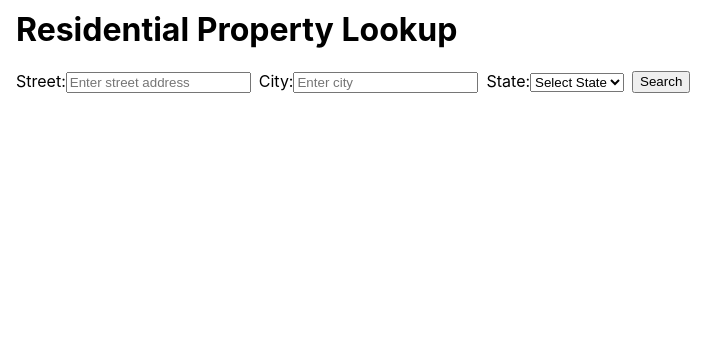
Test: App Component Tests › should display the summary after successful form submission
The image size is (707, 348).
Note: Fill out the form
Type "1252 Borregas Ave" into the field with placeholder "Enter street address" at (158, 82), box [66,72,251,93]
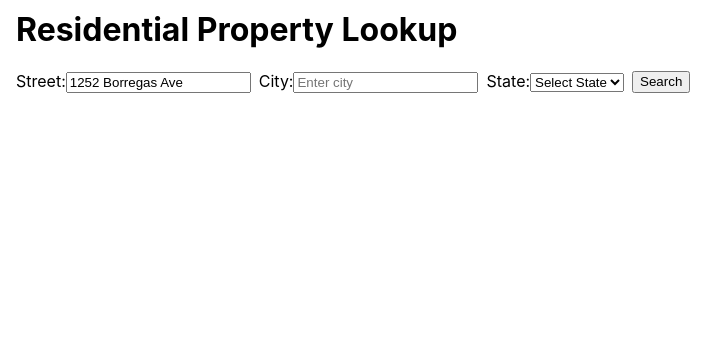
Type "Sunnyvale" into the field with placeholder "Enter city" at (386, 82), box [294,72,478,93]
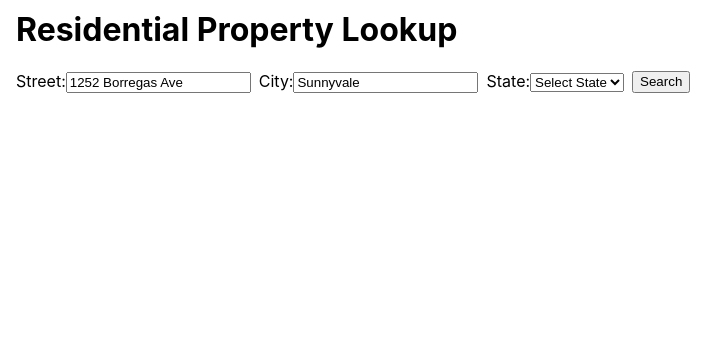
Select "CA" in the dropdown labelled "State:" at (577, 82), box [530,73,624,92]
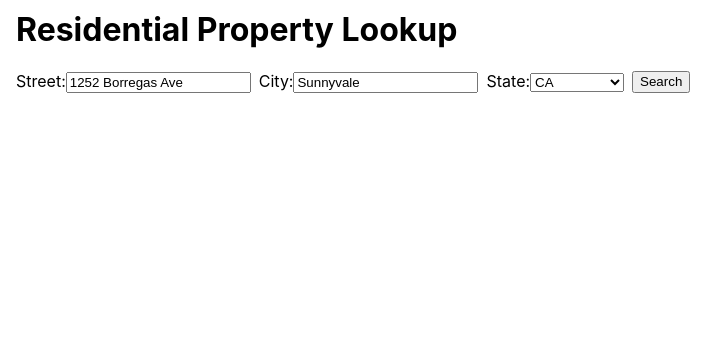
Note: Submit the form
Click the button "Search" at (661, 82), box [632,71,690,93]
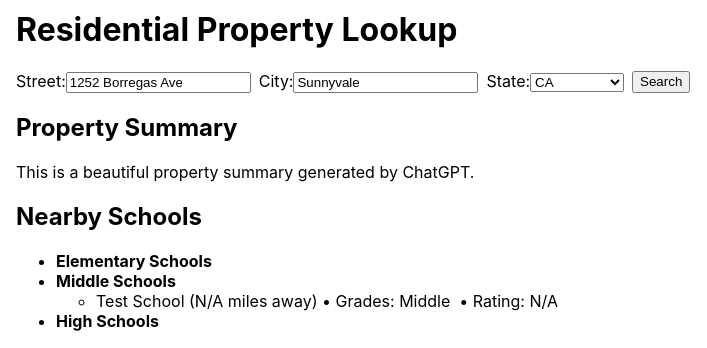
Check: the text with test id "summary" reads "This is a beautiful property summary generated by ChatGPT.", box [16,162,474,182]
